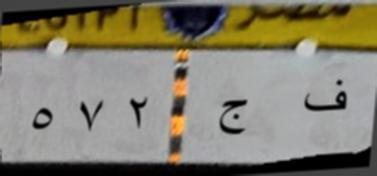2: (127, 91, 152, 134)
5: (27, 103, 58, 138)
7: (76, 91, 107, 135)
faa: (299, 78, 352, 118)
jeem: (217, 92, 253, 142)
